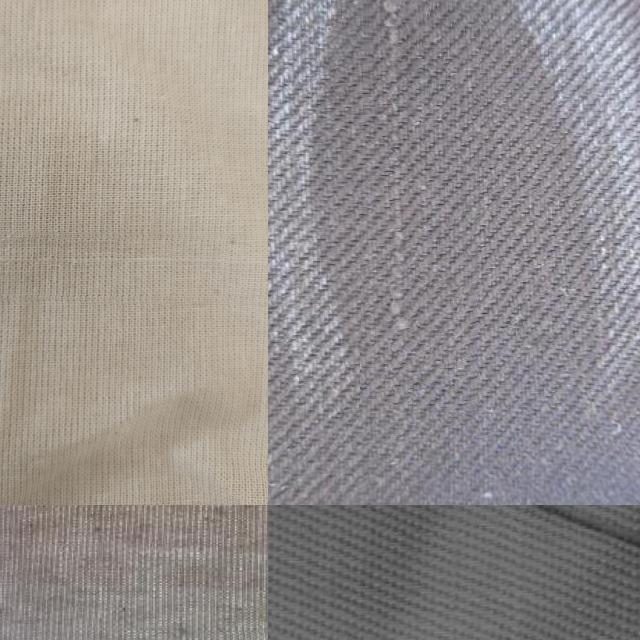stains: (361, 0, 480, 412), (0, 228, 268, 304), (451, 505, 577, 640)
